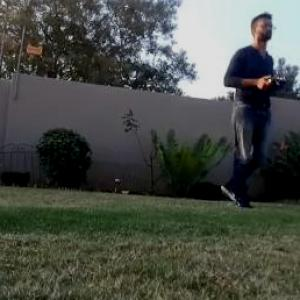follow: (214, 3, 289, 214)
